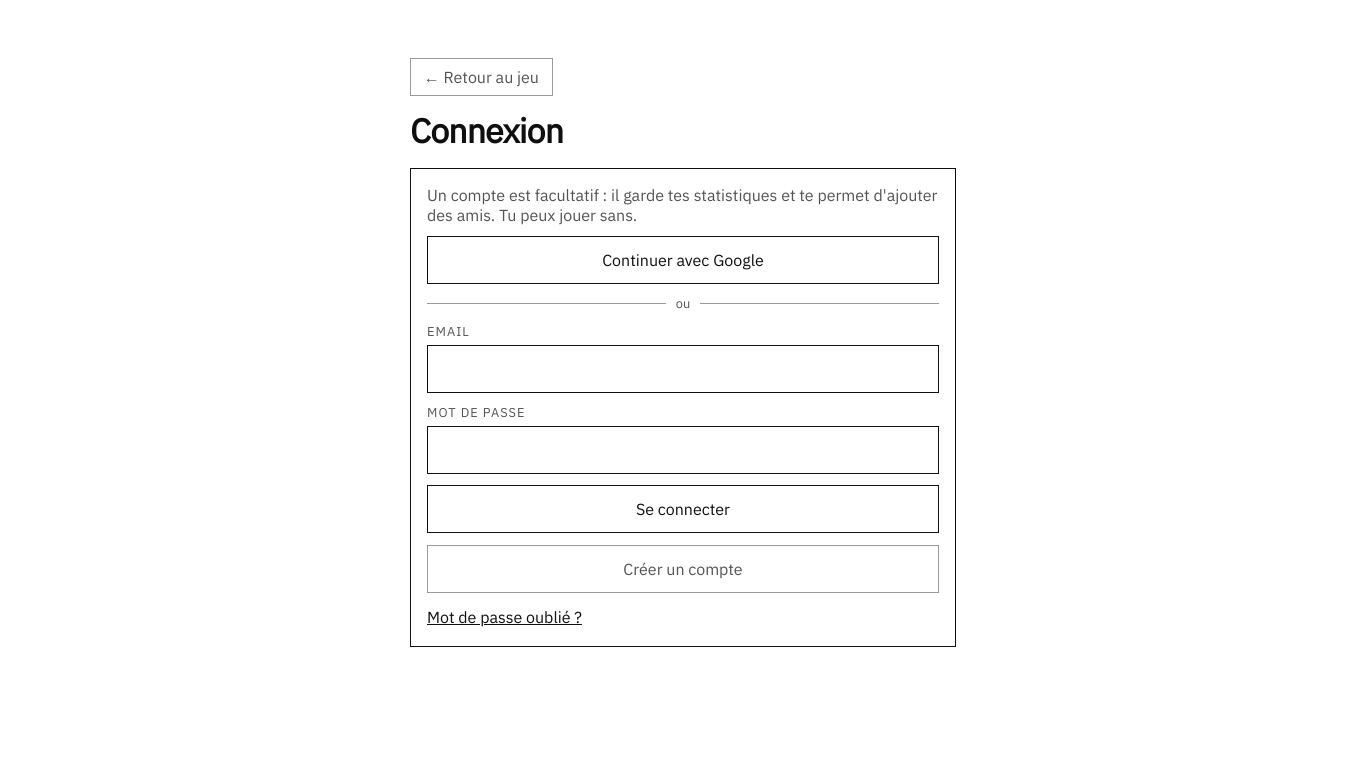
Test: AuthPage › registers then asks for the email code
Click the button "Créer un compte" at (683, 568), box x1=427 y1=544 x2=939 y2=592
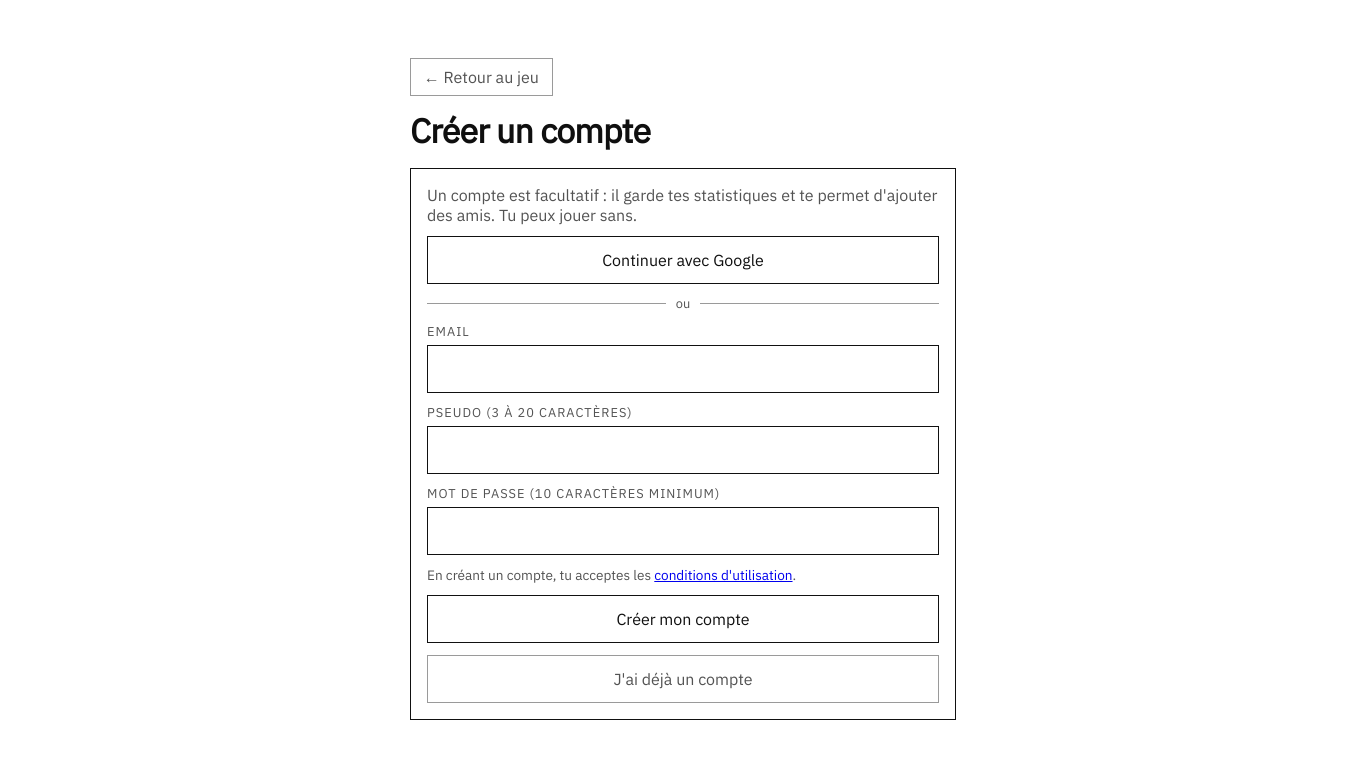
Type "rosa@example.org" into the field labelled "Email" at (683, 369), box x1=427 y1=345 x2=939 y2=393
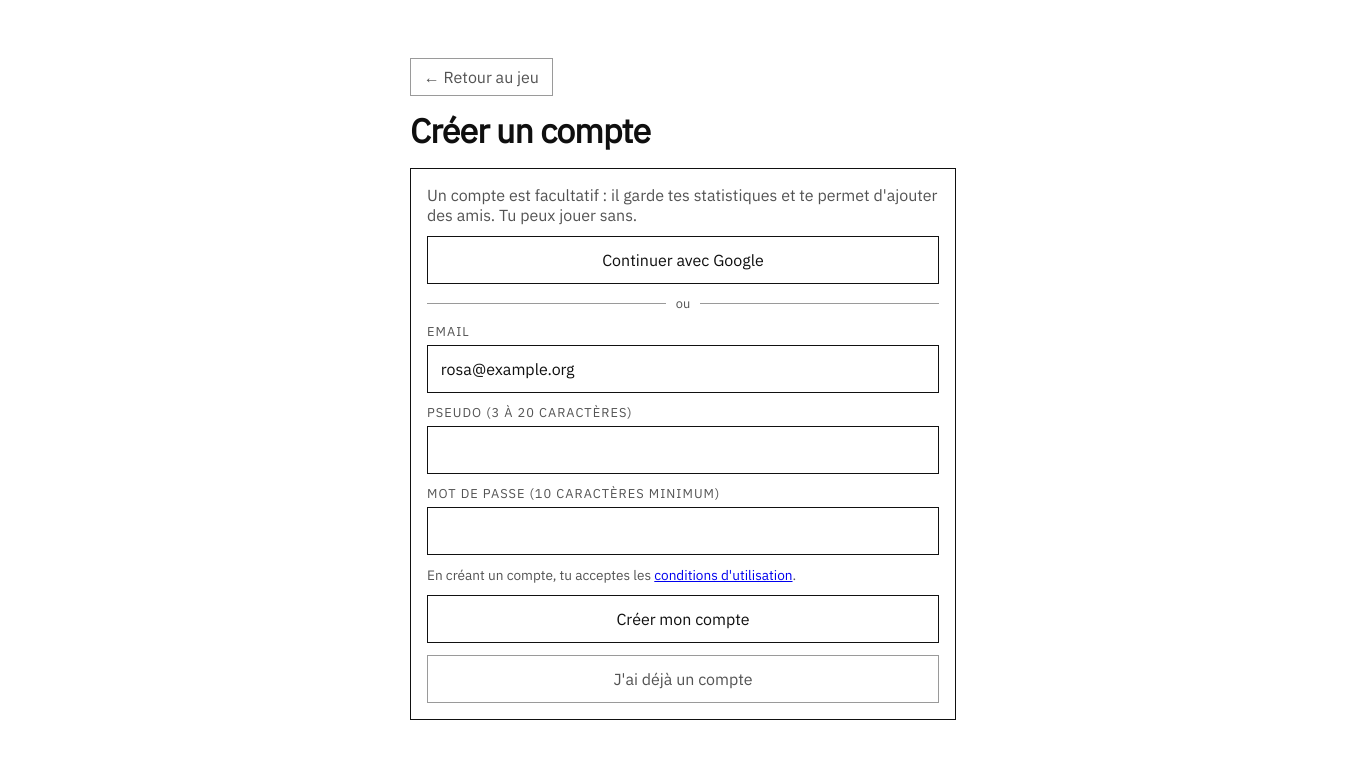
Type "Rosa" into the field labelled "Pseudo (3 à 20 caractères)" at (683, 450), box x1=427 y1=426 x2=939 y2=474
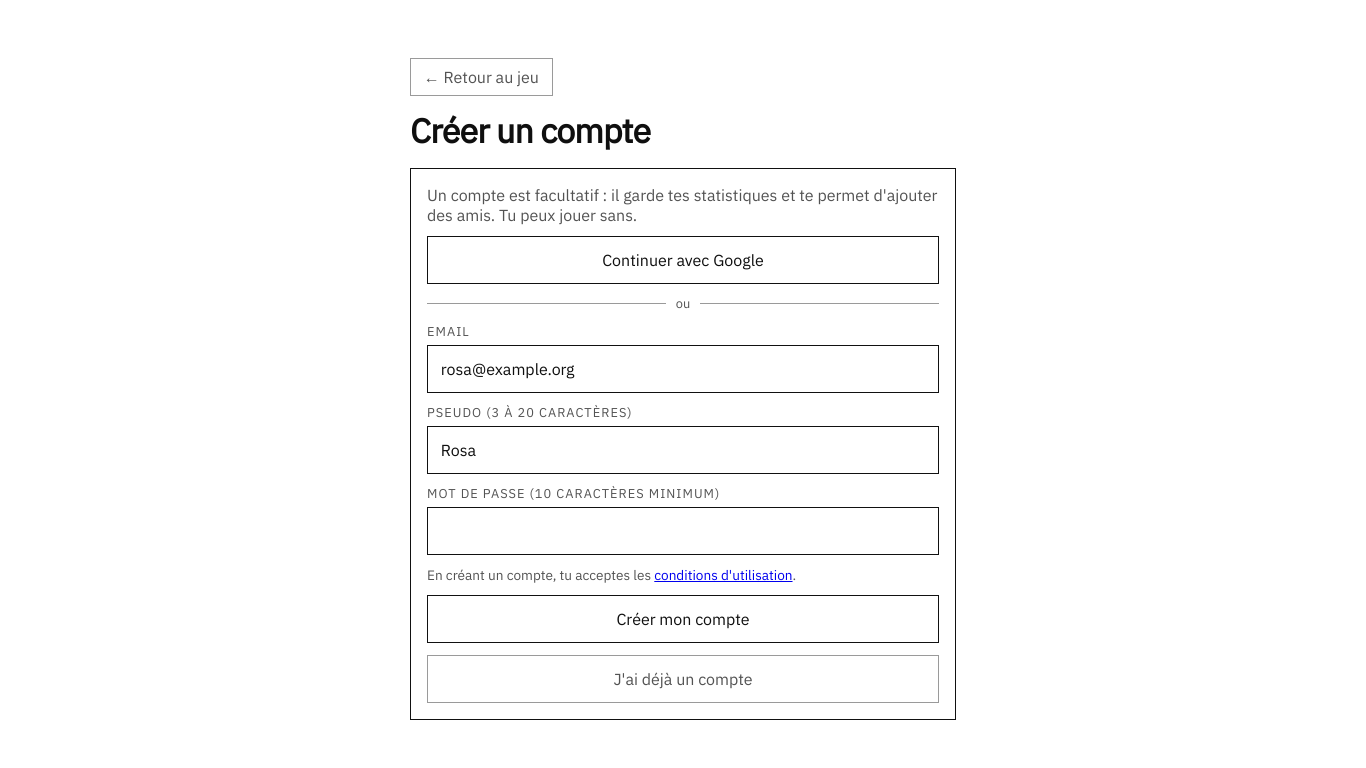
Type "correct horse battery" into the password field labelled "Mot de passe (10 caractères minimum)" at (683, 531), box x1=427 y1=507 x2=939 y2=555
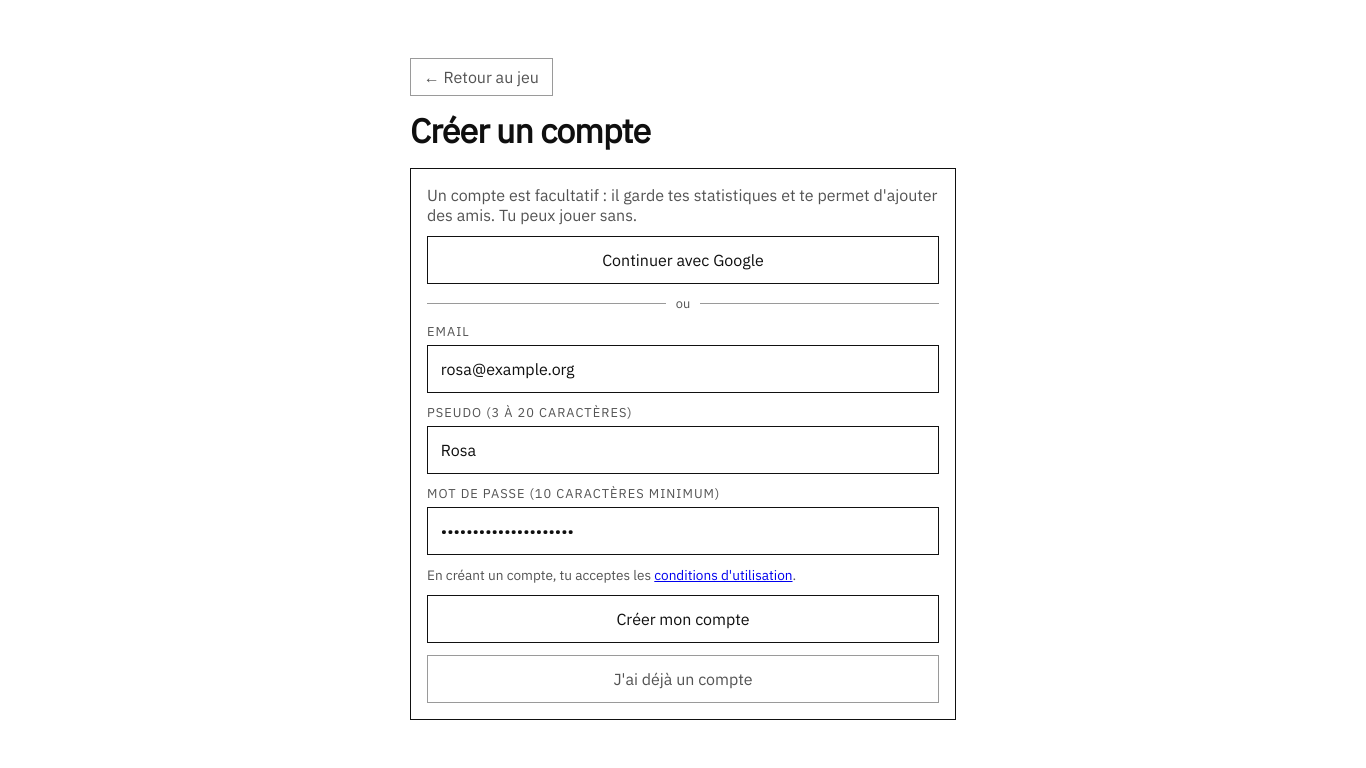
Click the button "Créer mon compte" at (683, 620), box x1=427 y1=596 x2=939 y2=644
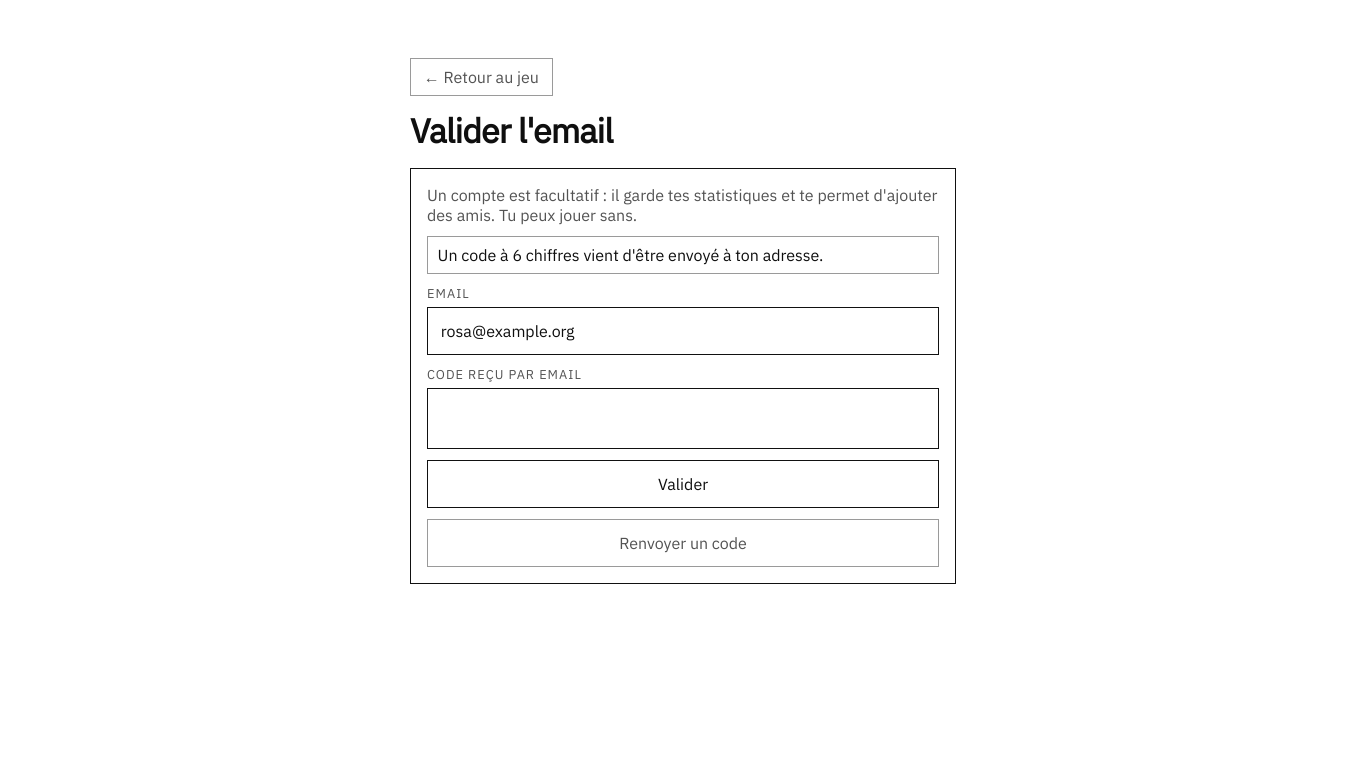
Check: the field labelled "Code reçu par email" is shown, box x1=427 y1=388 x2=939 y2=448
